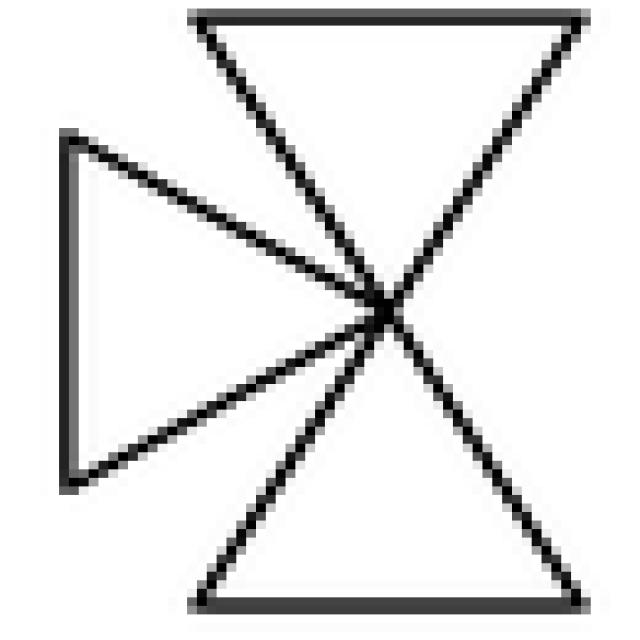3-way Valve: (67, 18, 581, 608)
